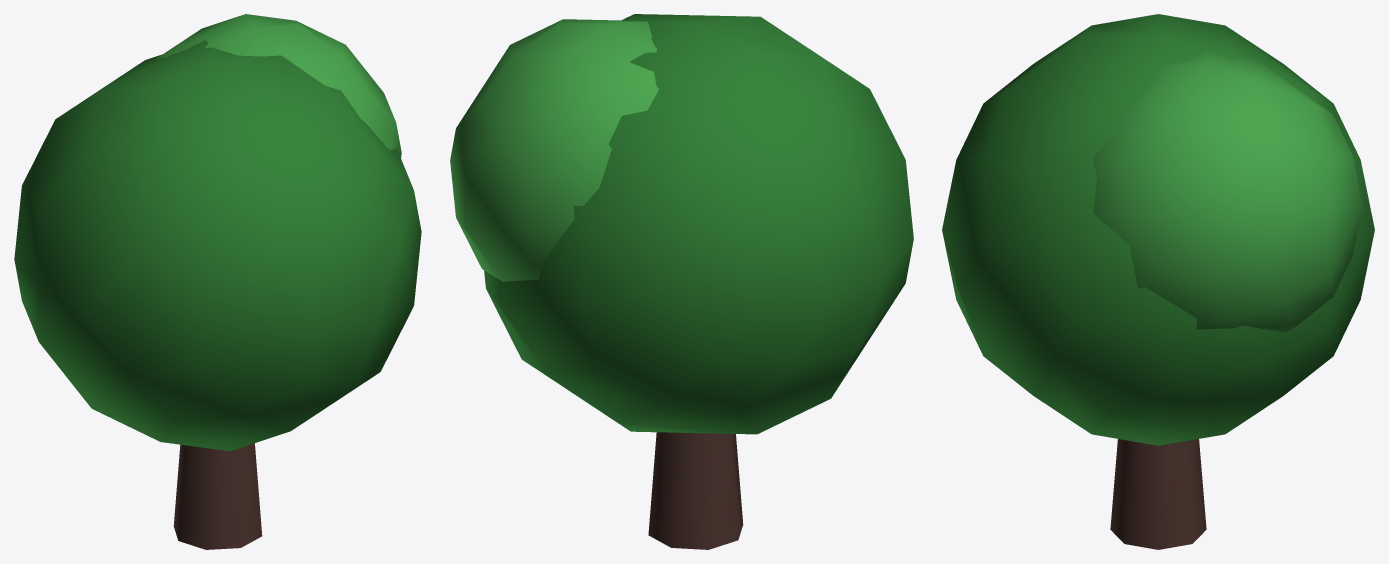
The model's file is tree_oak.glb.
3 views of the same model, side by side, from view 1: azimuth 30°, elevation 25°; view 2: azimuth 150°, elevation 25°; view 3: azimuth 270°, elevation 25° (orthographic). The views are drawn at different scales.
Bounding box in the file's own units: 7.4 × 9.1 × 7.2.
